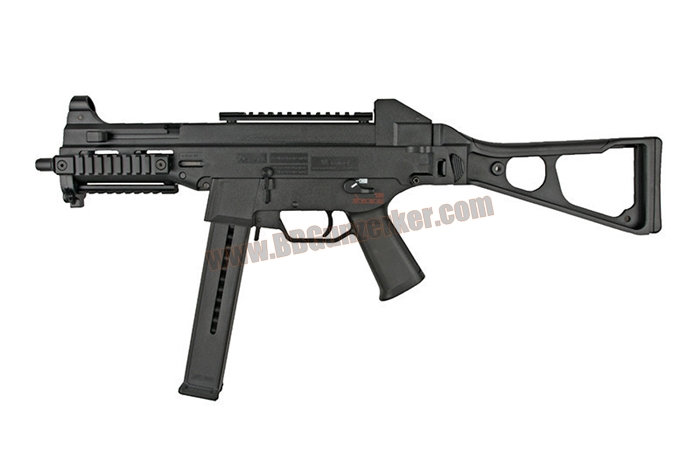gun: (25, 85, 679, 408)
